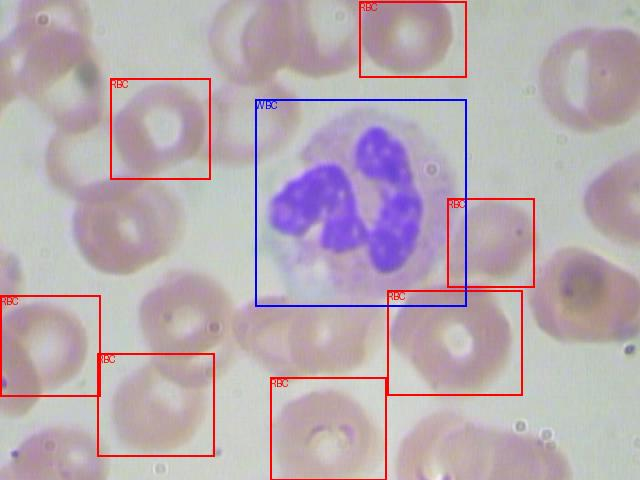RBC: (387, 290, 522, 395), (97, 353, 214, 456), (270, 377, 386, 480), (110, 78, 210, 179), (0, 295, 100, 396), (359, 1, 466, 77), (447, 198, 534, 287)
WBC: (255, 99, 466, 306)
